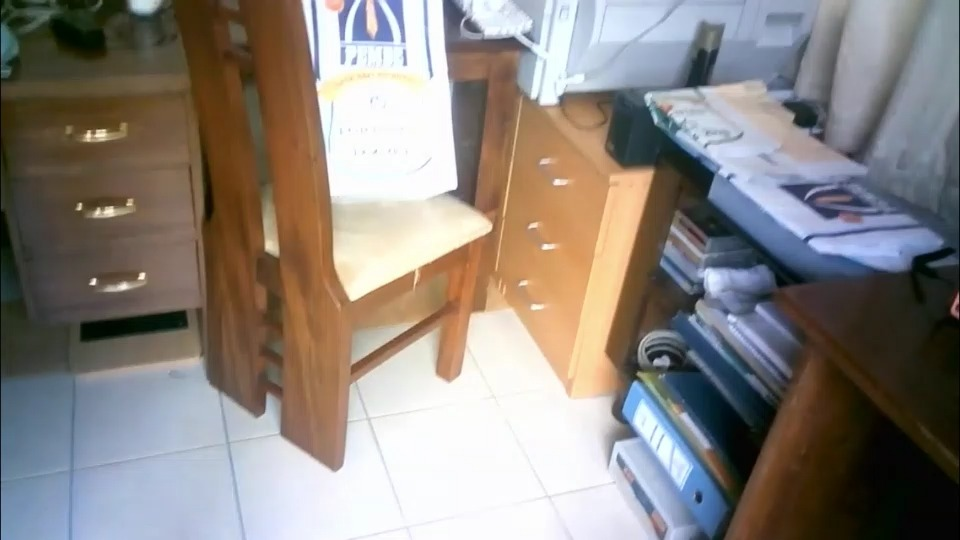wheat_flour_blue_label: (305, 0, 479, 209)
